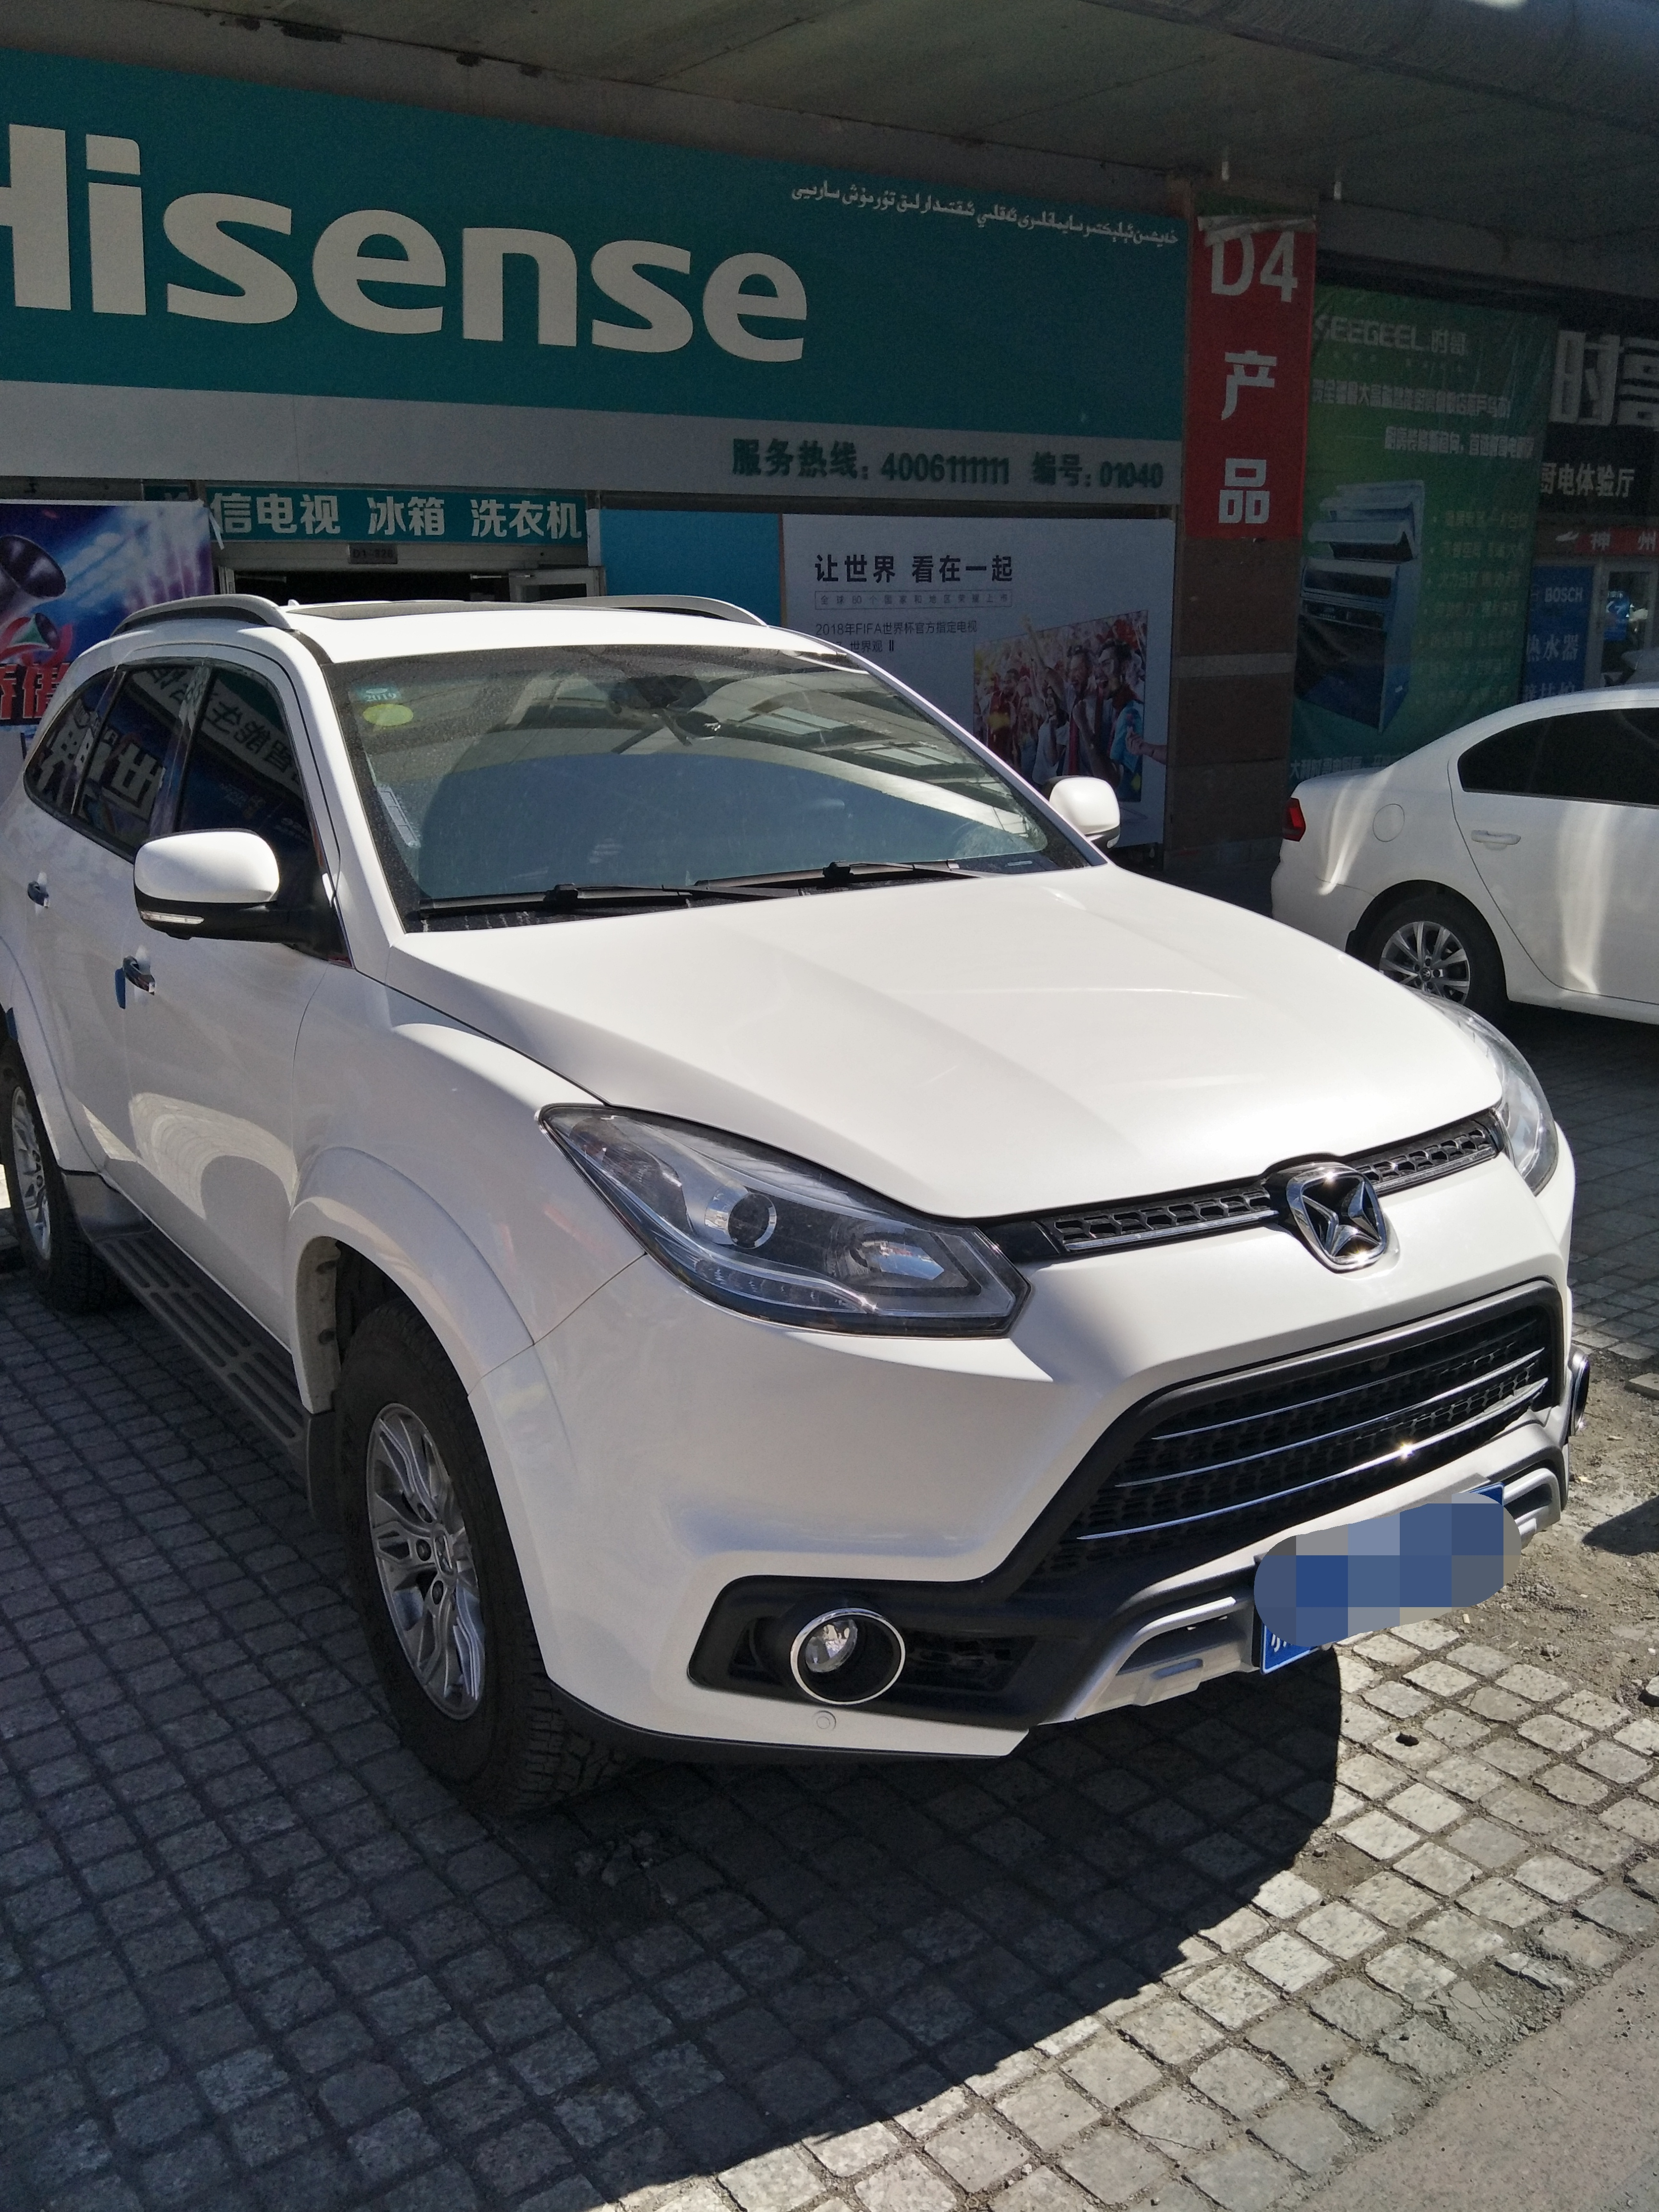SUV: (37, 573, 1622, 1796)
